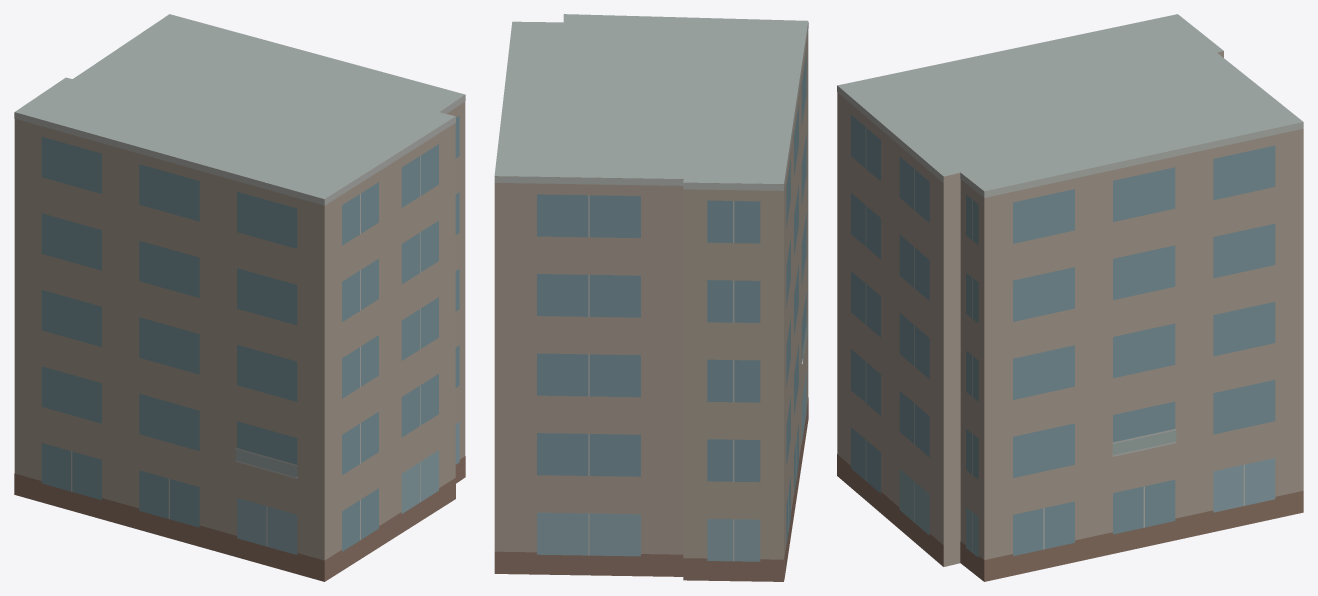
The model's file is survey-upis-32839460.glb.
3 views of the same model, side by side, from view 1: azimuth 30°, elevation 25°; view 2: azimuth 150°, elevation 25°; view 3: azimuth 270°, elevation 25° (orthographic). The views are drawn at different scales.
Visible parts, largest first — view 1: survey-upis-32839460.tmp; view 2: survey-upis-32839460.tmp; view 3: survey-upis-32839460.tmp.
Part boxes in pixels (bbox=[...]): survey-upis-32839460.tmp: bbox=[14, 14, 465, 581]; survey-upis-32839460.tmp: bbox=[494, 14, 808, 581]; survey-upis-32839460.tmp: bbox=[837, 14, 1303, 581].
Size of the model in its own units: 13.99 by 14.35 by 15.55.
